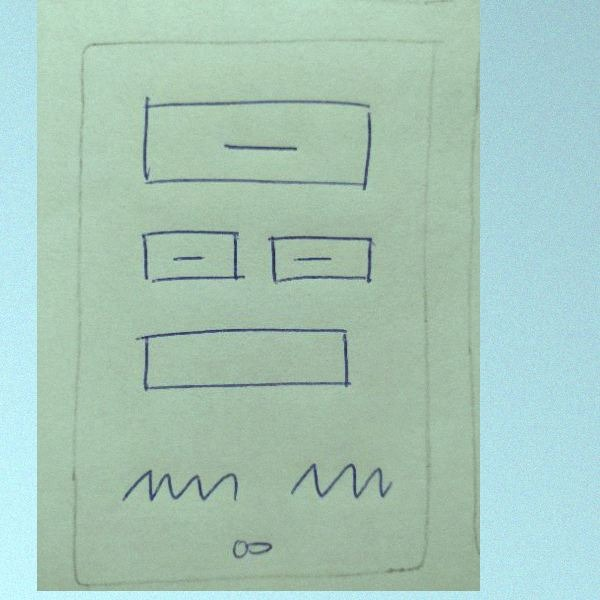button: (131, 87, 384, 200), (264, 227, 381, 293), (136, 223, 249, 289)
switch: (218, 526, 288, 568)
text: (109, 454, 251, 511), (286, 454, 398, 510)
text_input: (129, 318, 362, 400)
